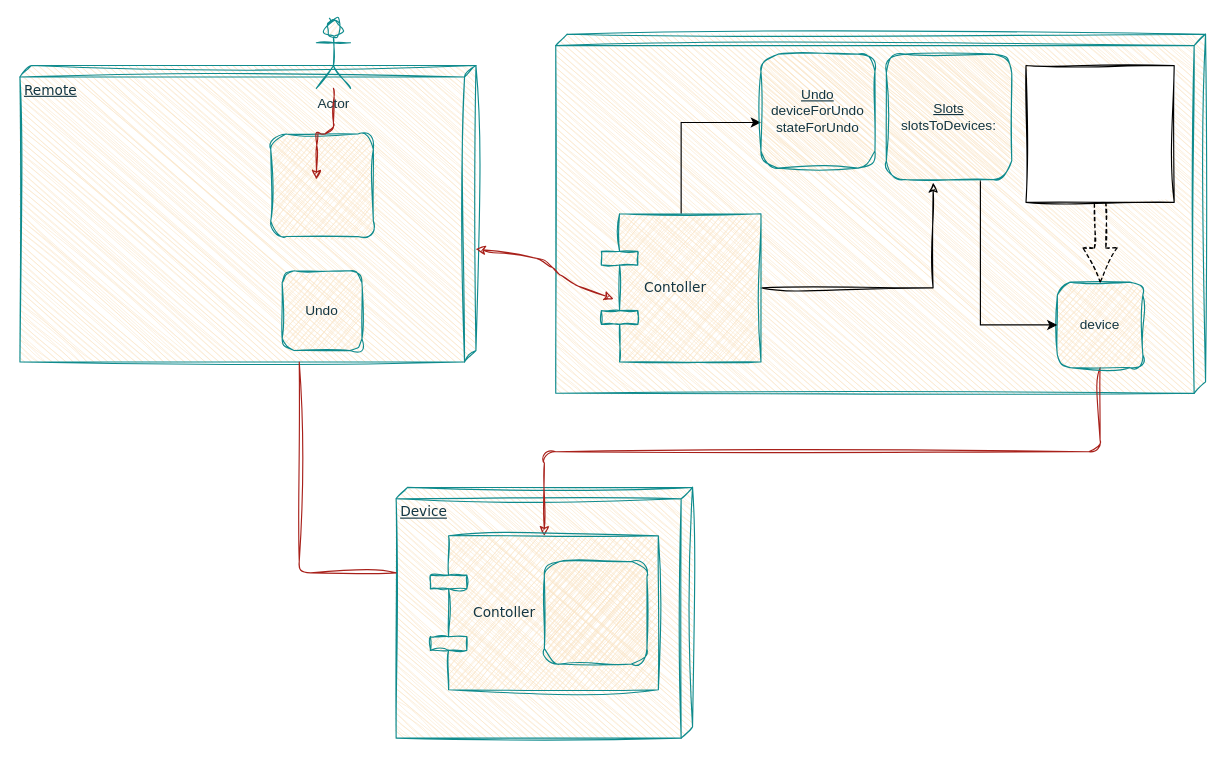
Image size: 1226x758. Some labels were removed from this diagram. Here are the shapes that lost their labels. From the top down, the box of each, then its label:
(1025, 64, 1174, 202): Device + deviceId + deviceType + changeState
(270, 133, 373, 237): Slot (on/off)
(555, 33, 1206, 393): Hub
(543, 560, 647, 664): state
